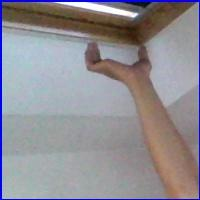space: (82, 32, 158, 88)
